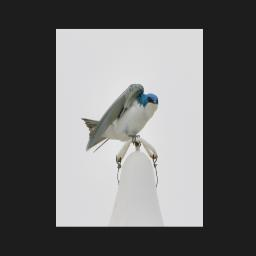Swallow: (80, 83, 159, 155)
